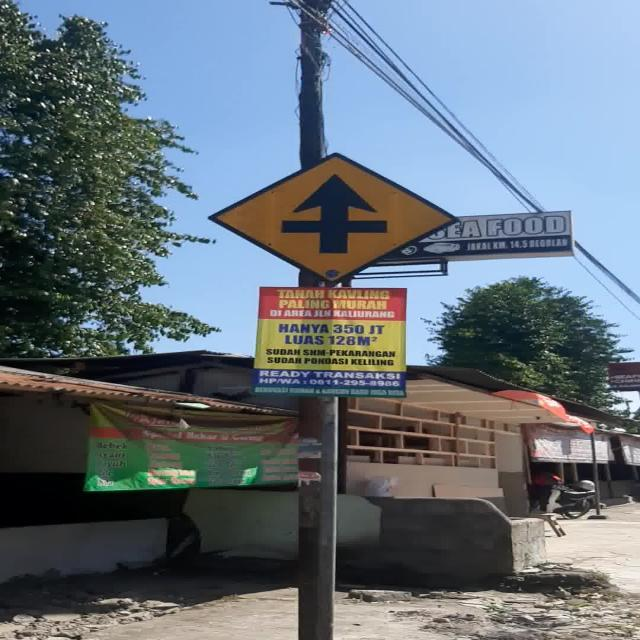Persimpangan 3 Prioritas: (208, 152, 460, 286)
